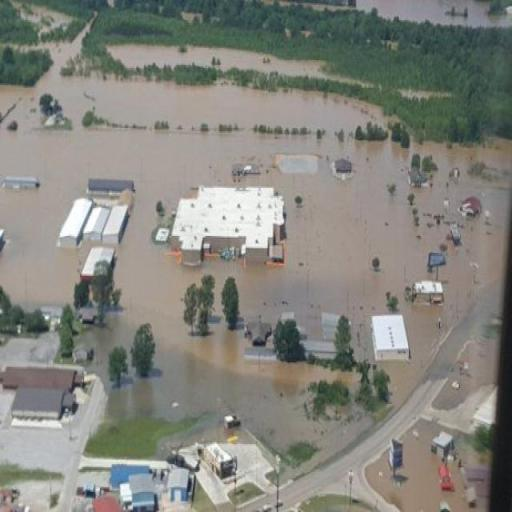flood: (0, 26, 512, 452), (108, 43, 375, 85), (356, 0, 512, 27), (11, 0, 70, 33), (398, 89, 450, 98)
house: (172, 184, 292, 258), (4, 359, 80, 425), (58, 198, 133, 242), (370, 310, 412, 366), (76, 244, 114, 279), (128, 471, 158, 512), (205, 441, 236, 477), (110, 462, 151, 489), (166, 467, 195, 502), (86, 177, 136, 197), (410, 281, 444, 303)
